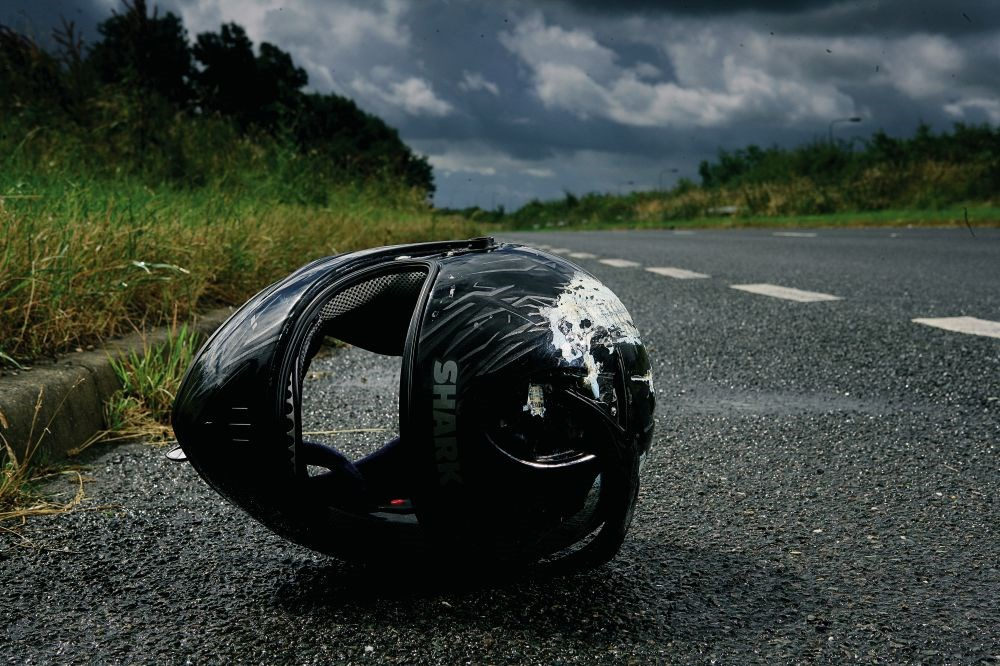with_helmet: (169, 227, 665, 614)
